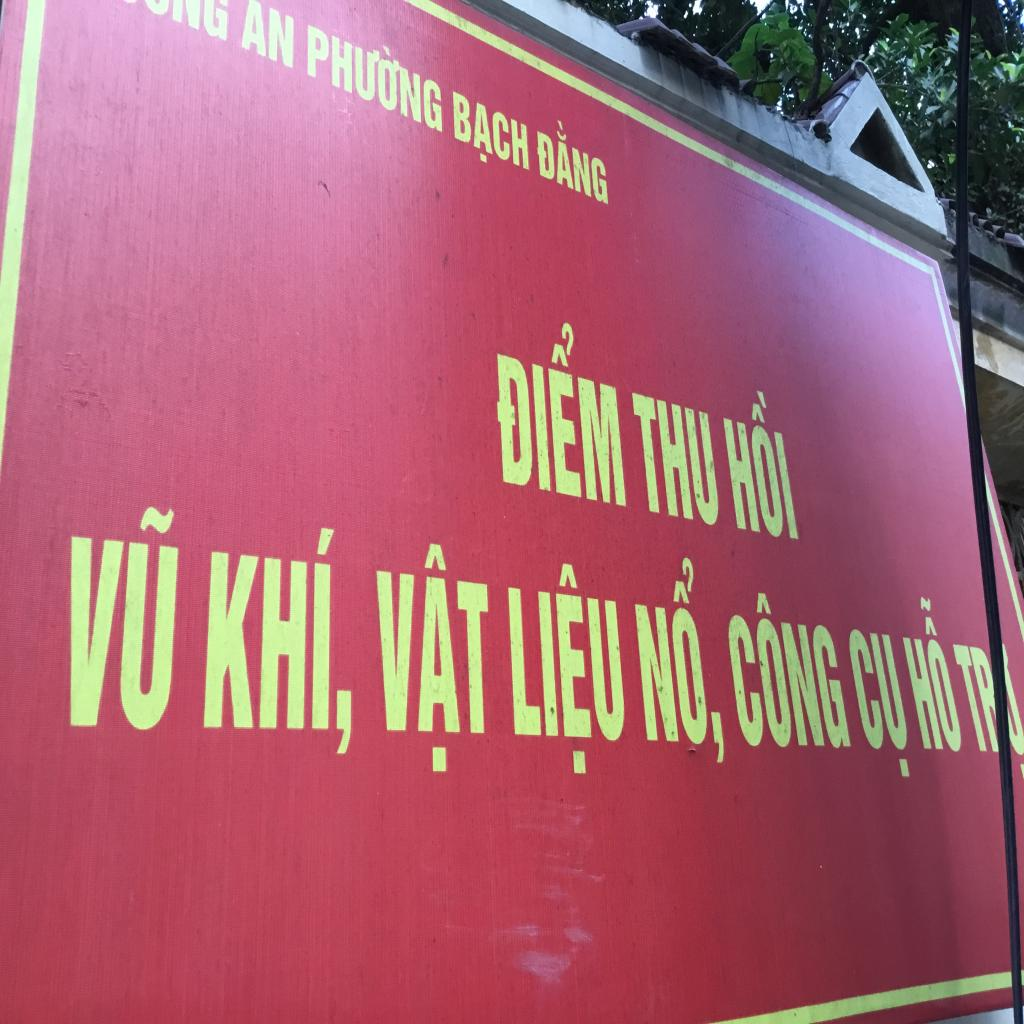text: (190, 506, 355, 762), (56, 491, 188, 733), (488, 300, 628, 518), (369, 540, 493, 782), (501, 554, 629, 788), (722, 587, 857, 757), (629, 541, 726, 771), (304, 18, 446, 138), (720, 376, 805, 548), (629, 384, 724, 530), (844, 626, 919, 782), (898, 592, 969, 756), (534, 109, 614, 210), (448, 85, 532, 178), (954, 637, 1011, 756), (235, 0, 297, 74)
